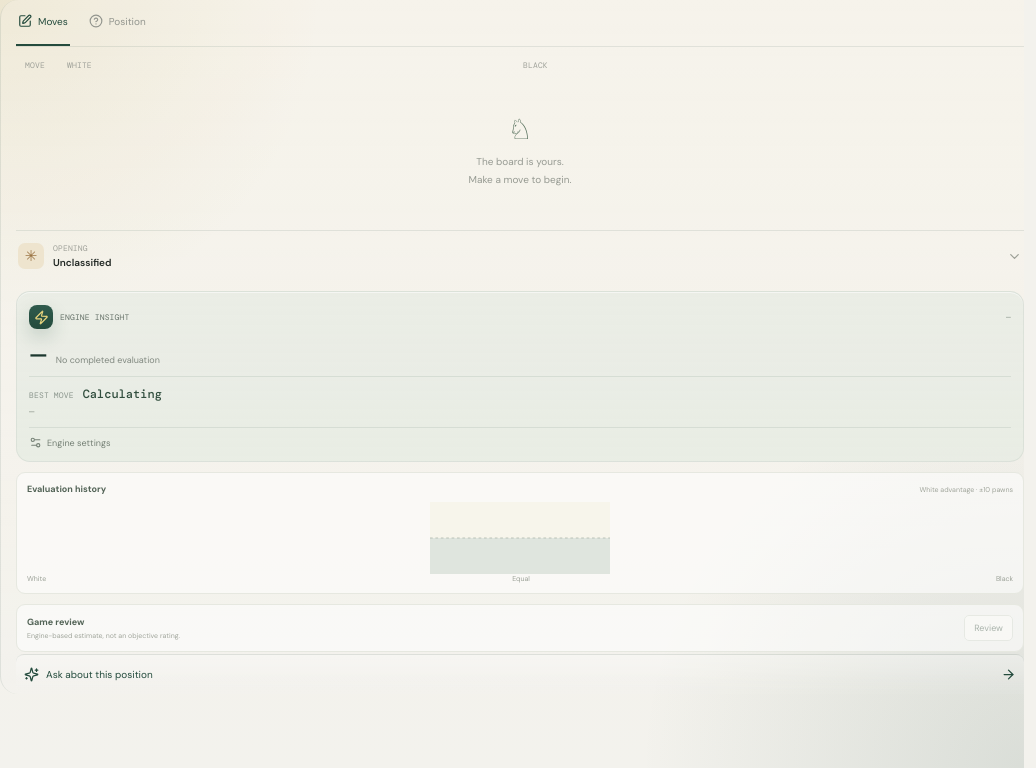
it: PositionPanel game review › explains when the browser cannot copy the FEN
This screenshot has width=1036, height=768.
Click the button "Position" at (117, 27), box top-left (87, 8), bottom-right (148, 46)
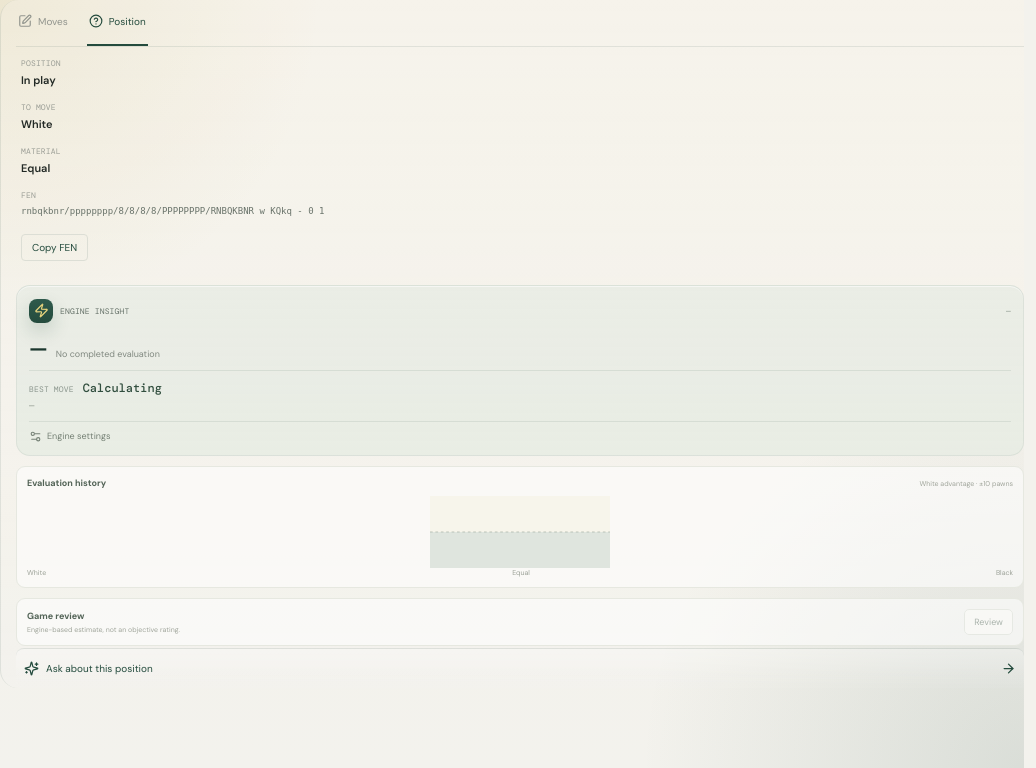
Click the button "Copy FEN" at (55, 247), box top-left (21, 234), bottom-right (88, 260)
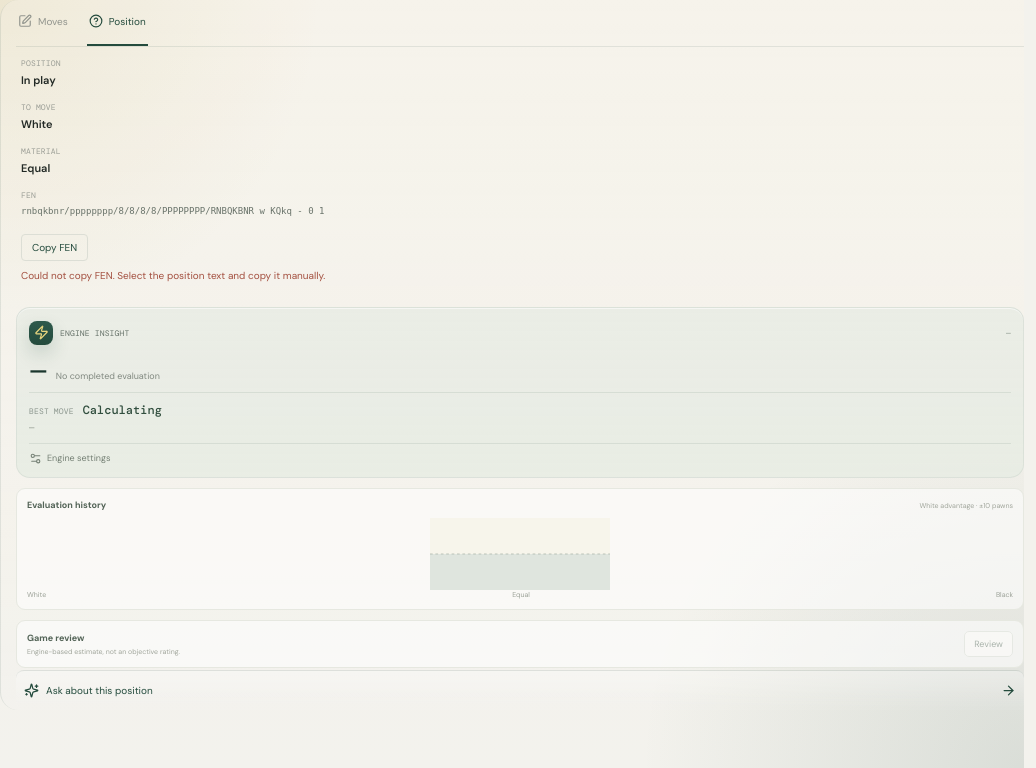
Check: the message shows "Could not copy FEN", box top-left (21, 268), bottom-right (325, 282)
